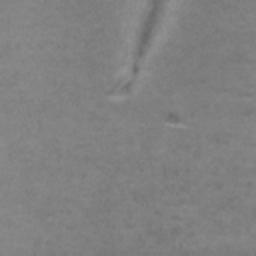Finishing roll printing: (131, 0, 168, 76), (116, 81, 134, 96), (166, 110, 180, 124)
